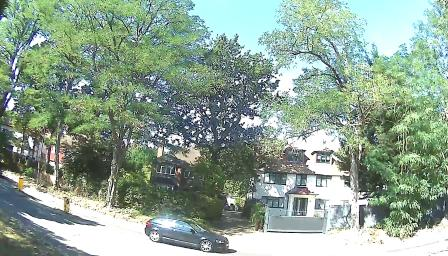Cars: (145, 207, 233, 251)
